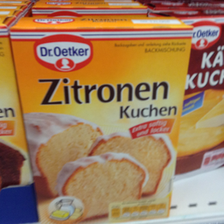cake: (7, 14, 196, 224)
